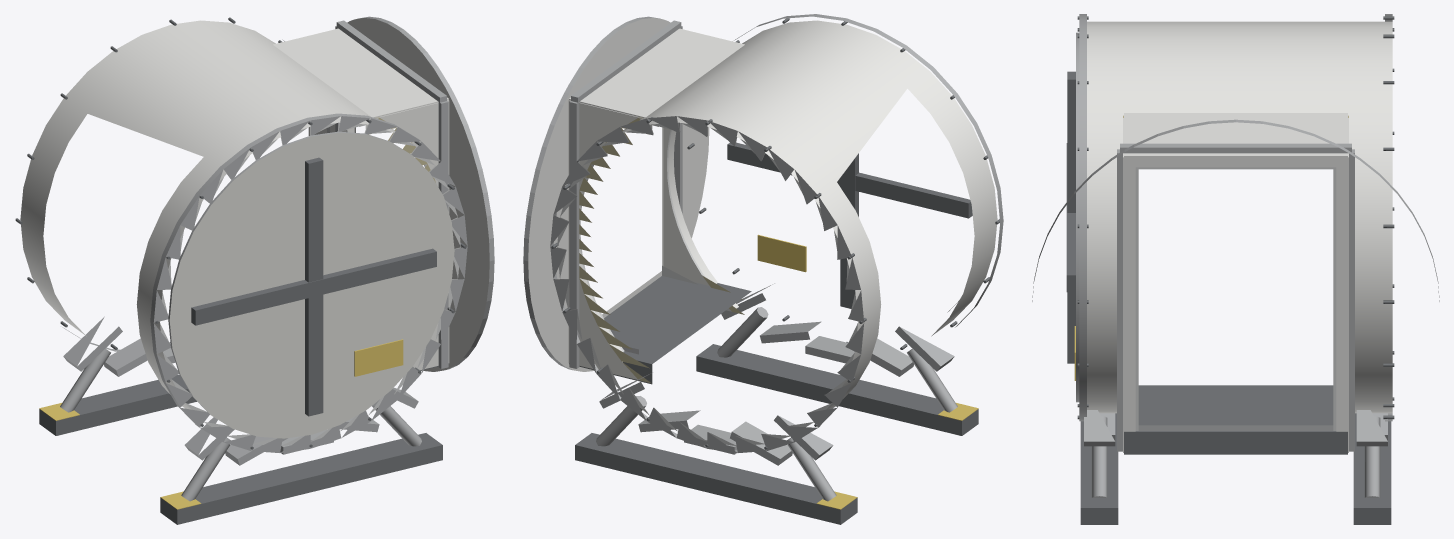
Rendered from habSegJRf_steel.glb.
3 renders of one model, left to right at view 1: azimuth 30°, elevation 25°; view 2: azimuth 150°, elevation 25°; view 3: azimuth 270°, elevation 25°, orthographic. The views are drawn at different scales.
Visible parts, largest first — view 1: habSegJRf_steel; view 2: habSegJRf_steel; view 3: habSegJRf_steel.
Boxes of the visible parts, <box> form: habSegJRf_steel: <box>15,16,494,524</box>; habSegJRf_steel: <box>523,14,1003,524</box>; habSegJRf_steel: <box>1032,14,1439,524</box>.
Bounding box in the file's own units: 2.65 × 2.95 × 2.6.
